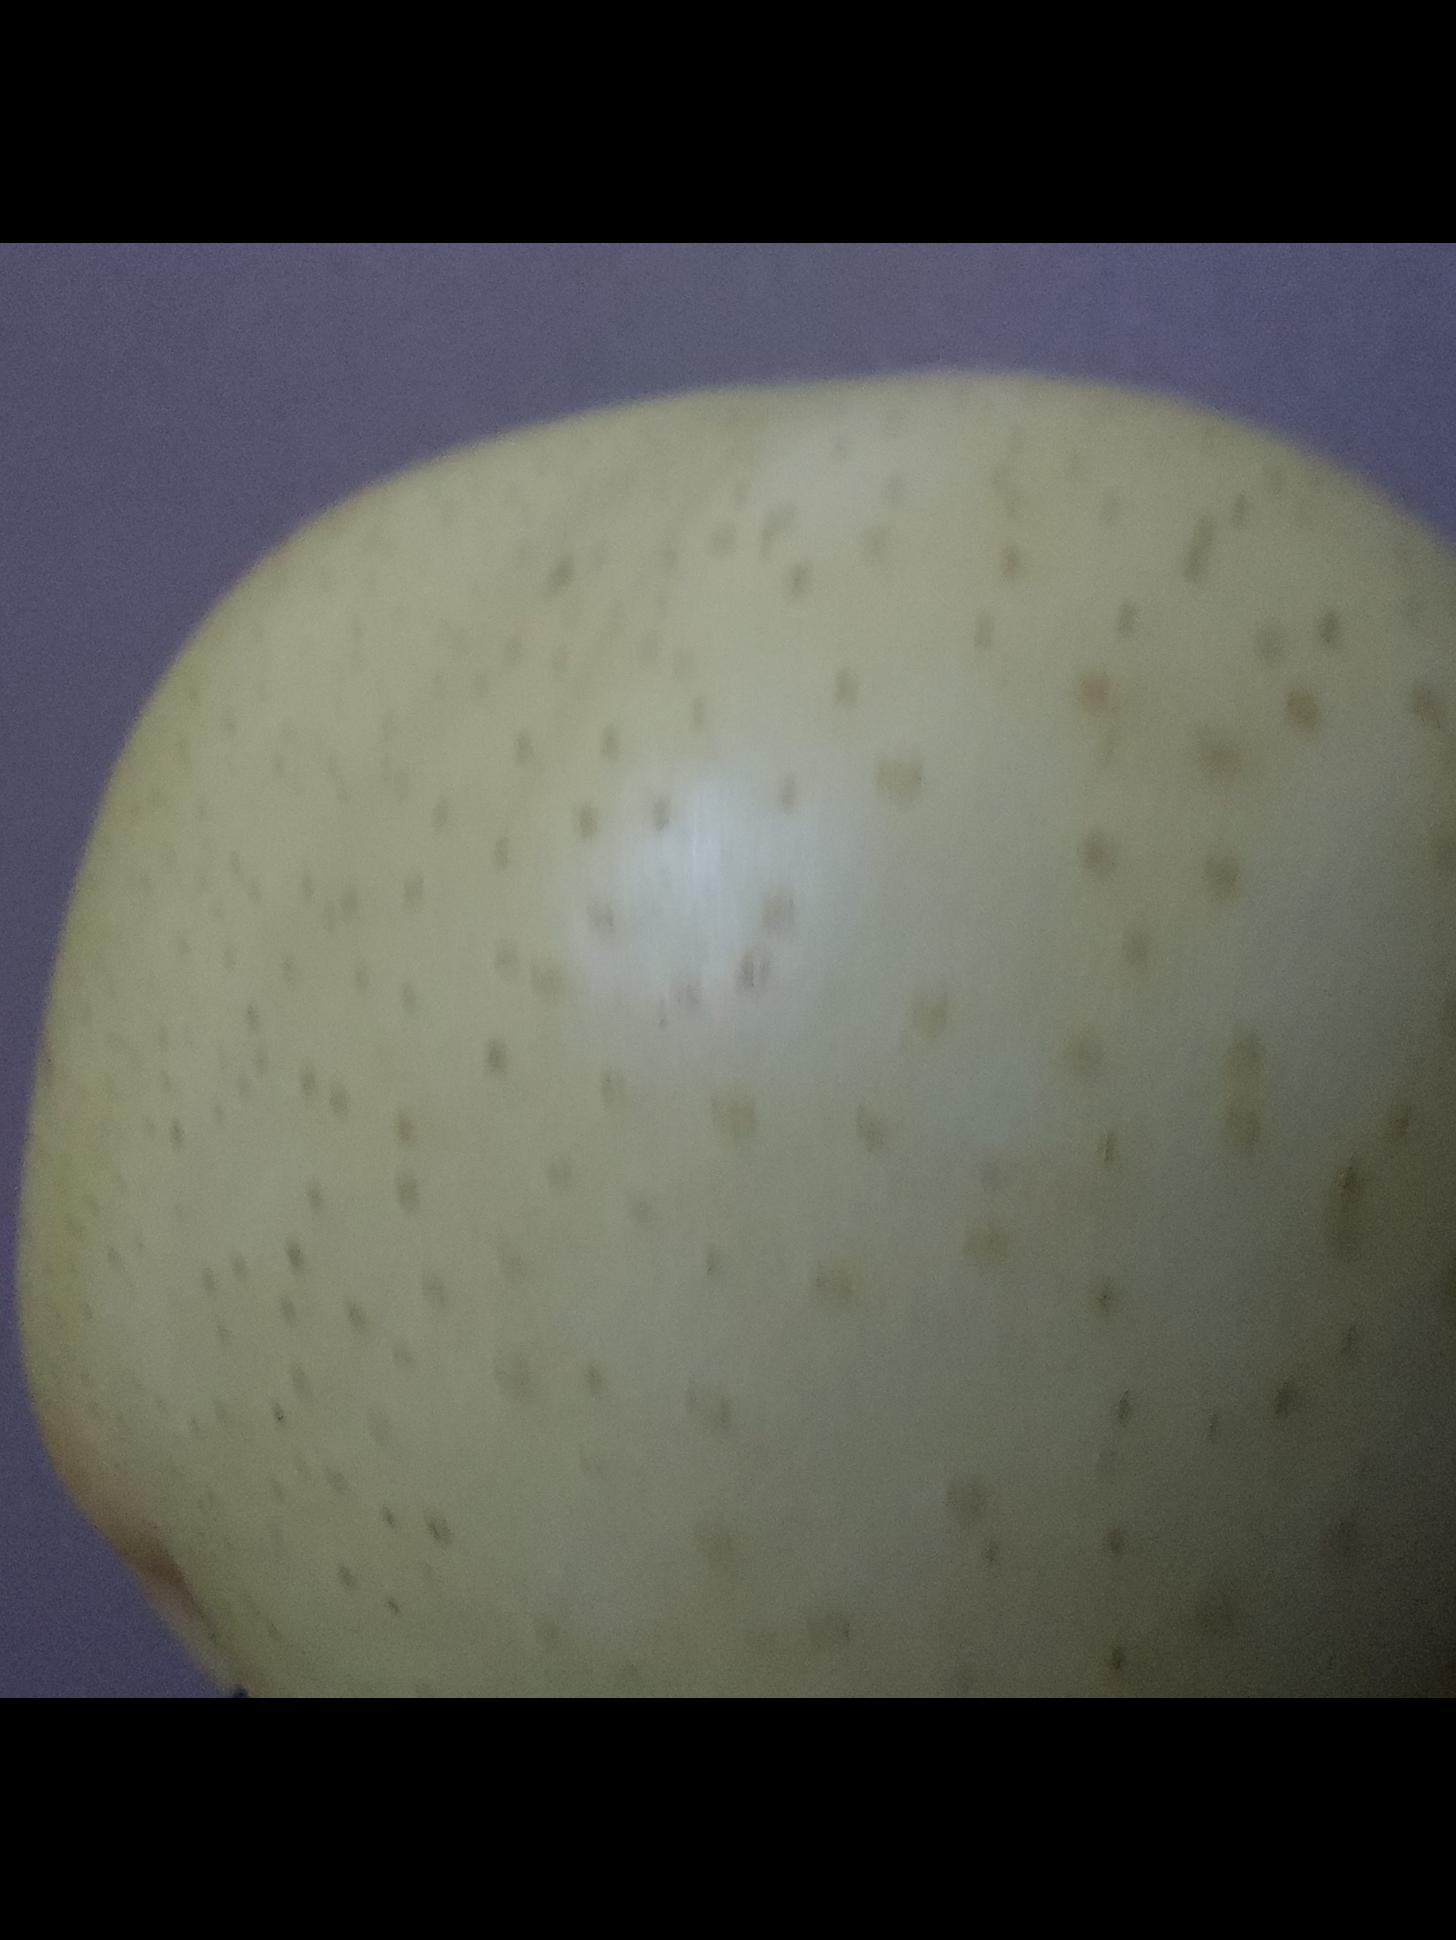Good Pear: (0, 381, 1456, 1698)
